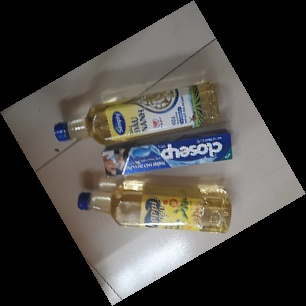CloseUp Tuyet: (102, 128, 234, 178)
Happy Soya: (76, 179, 233, 237)
Simply: (51, 82, 220, 139)
